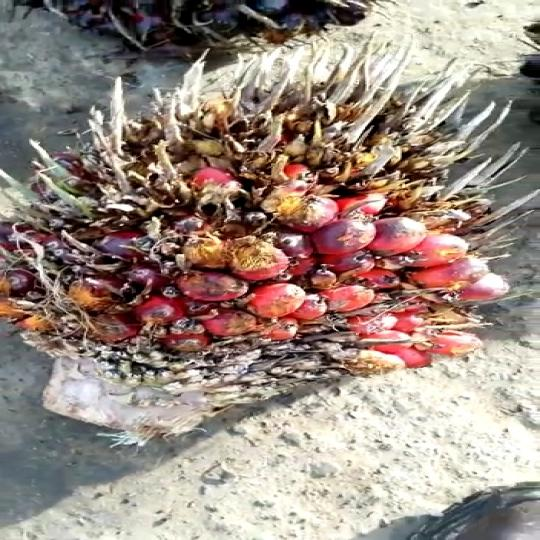terlalu masak: (0, 34, 540, 458)
